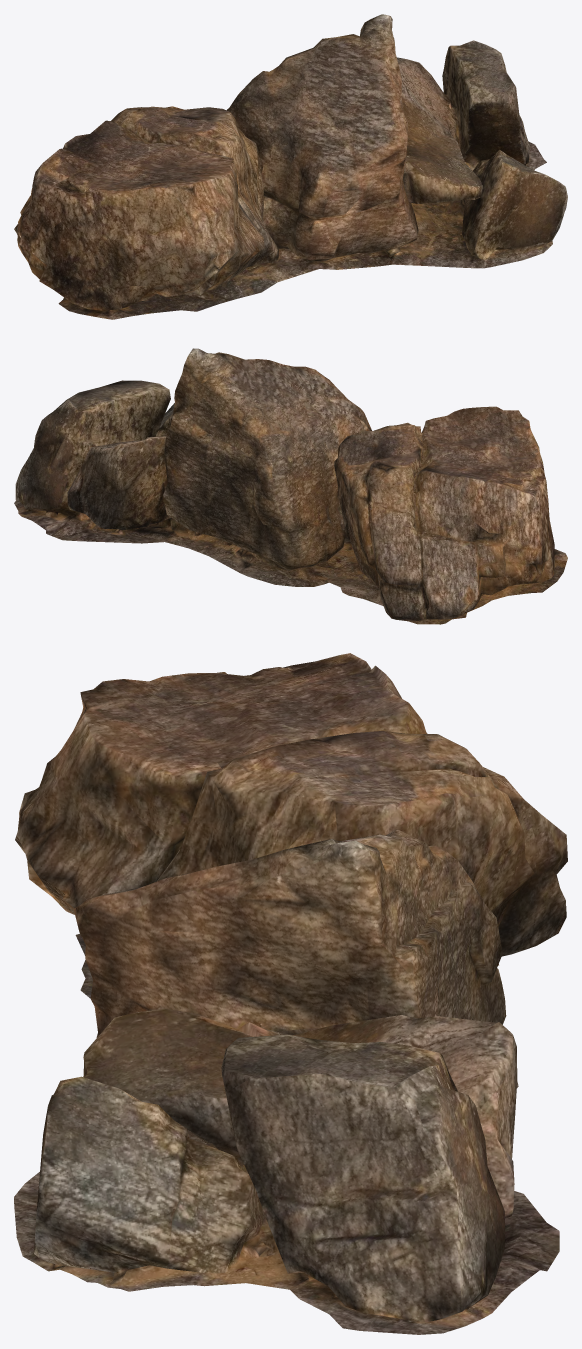
The model's file is assets__ph__namaqualand_boulder_02.glb.
The picture shows the model from 3 angles, top to bottom: view 1: azimuth 30°, elevation 25°; view 2: azimuth 150°, elevation 25°; view 3: azimuth 270°, elevation 25°; orthographic projection. The views are drawn at different scales.
Visible parts, largest first — view 1: boulder_02; view 2: boulder_02; view 3: boulder_02.
Part boxes in pixels (x1,y1,x2,y2): boulder_02: [14, 14, 567, 319]; boulder_02: [14, 348, 567, 624]; boulder_02: [14, 653, 567, 1334].
Bounding box in the file's own units: 2.53 × 0.8804 × 1.23.
Materials: 1 (1 with a texture image).
